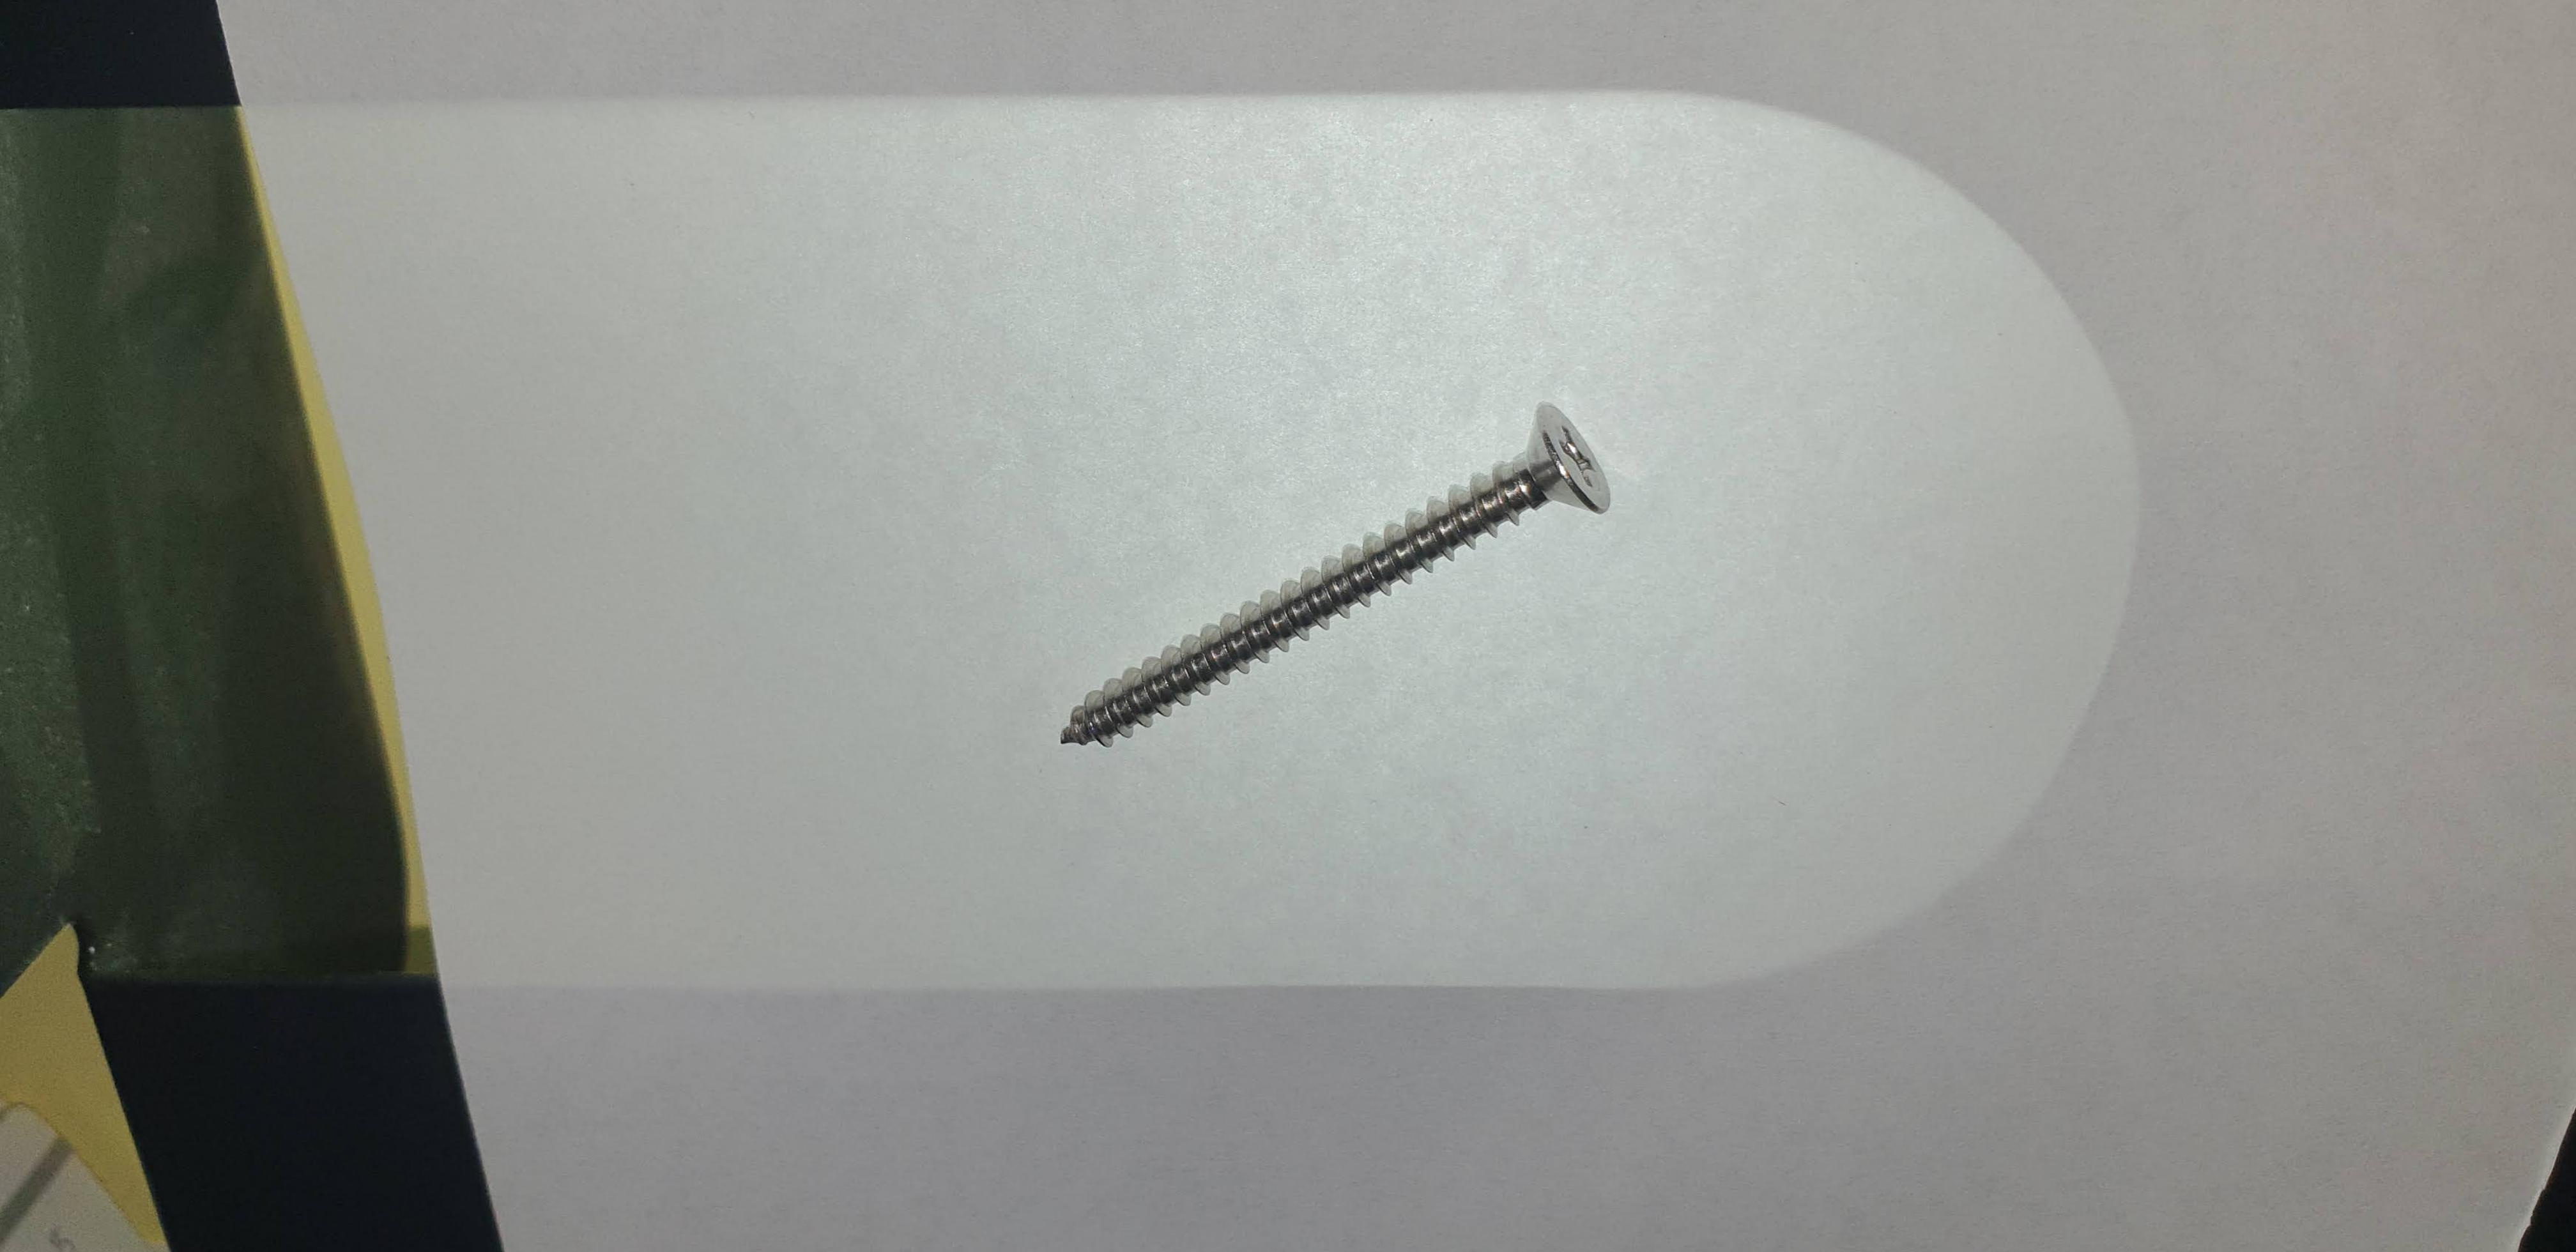fastener: (973, 350, 1694, 810)
